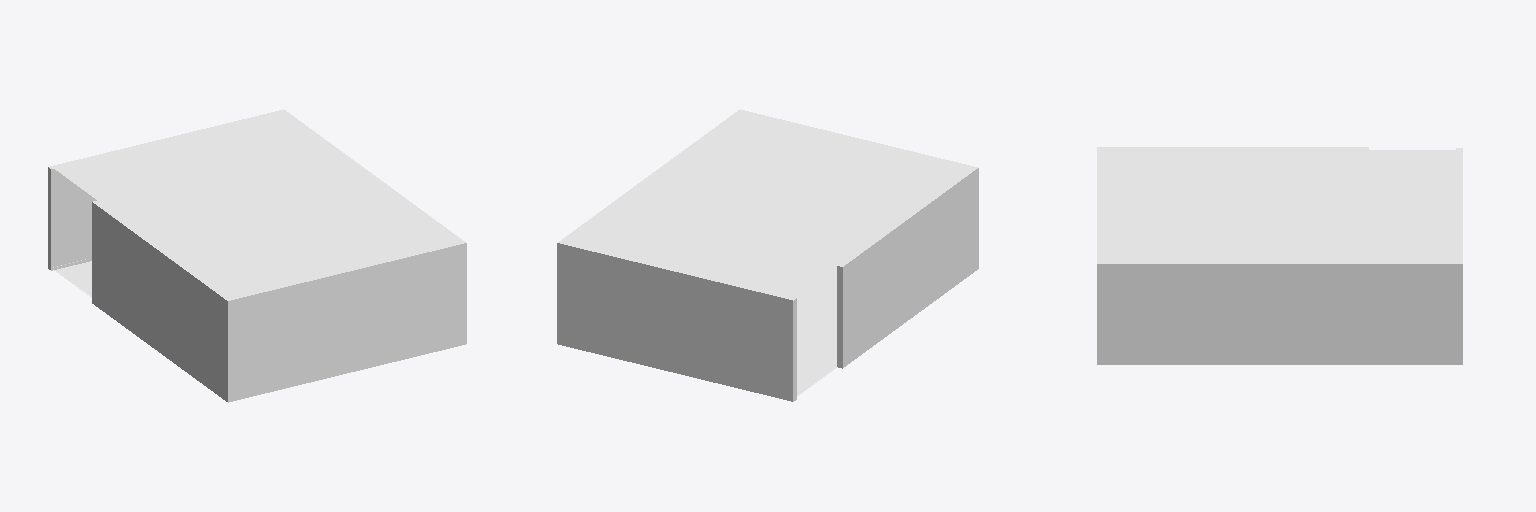
Rendered from corridor02.obj.
3 renders of one model, left to right at view 1: azimuth 30°, elevation 25°; view 2: azimuth 150°, elevation 25°; view 3: azimuth 270°, elevation 25°, orthographic.
Parts seen in each view (by area): view 1: room_1_2, wall_4_20, wall_5_27, wall_2_7, room_1_1; view 2: room_1_2, wall_2_6, wall_5_27, room_1_1; view 3: room_1_2, wall_3_13, wall_3_15, wall_5_30.
Part boxes in pixels (left/top/right/bottom): room_1_2: left=54, top=113, right=457, bottom=296; wall_4_20: left=228, top=243, right=466, bottom=402; wall_5_27: left=92, top=202, right=227, bottom=401; wall_2_7: left=50, top=169, right=96, bottom=269; room_1_1: left=54, top=261, right=91, bottom=297; room_1_2: left=566, top=113, right=969, bottom=296; wall_2_6: left=557, top=243, right=794, bottom=401; wall_5_27: left=840, top=168, right=978, bottom=368; room_1_1: left=794, top=266, right=836, bottom=395; room_1_2: left=1104, top=150, right=1455, bottom=260; wall_3_13: left=1097, top=264, right=1462, bottom=364; wall_3_15: left=1098, top=262, right=1461, bottom=263; wall_5_30: left=1101, top=148, right=1368, bottom=149.
Size of the model in its own units: 616 by 250 by 815.